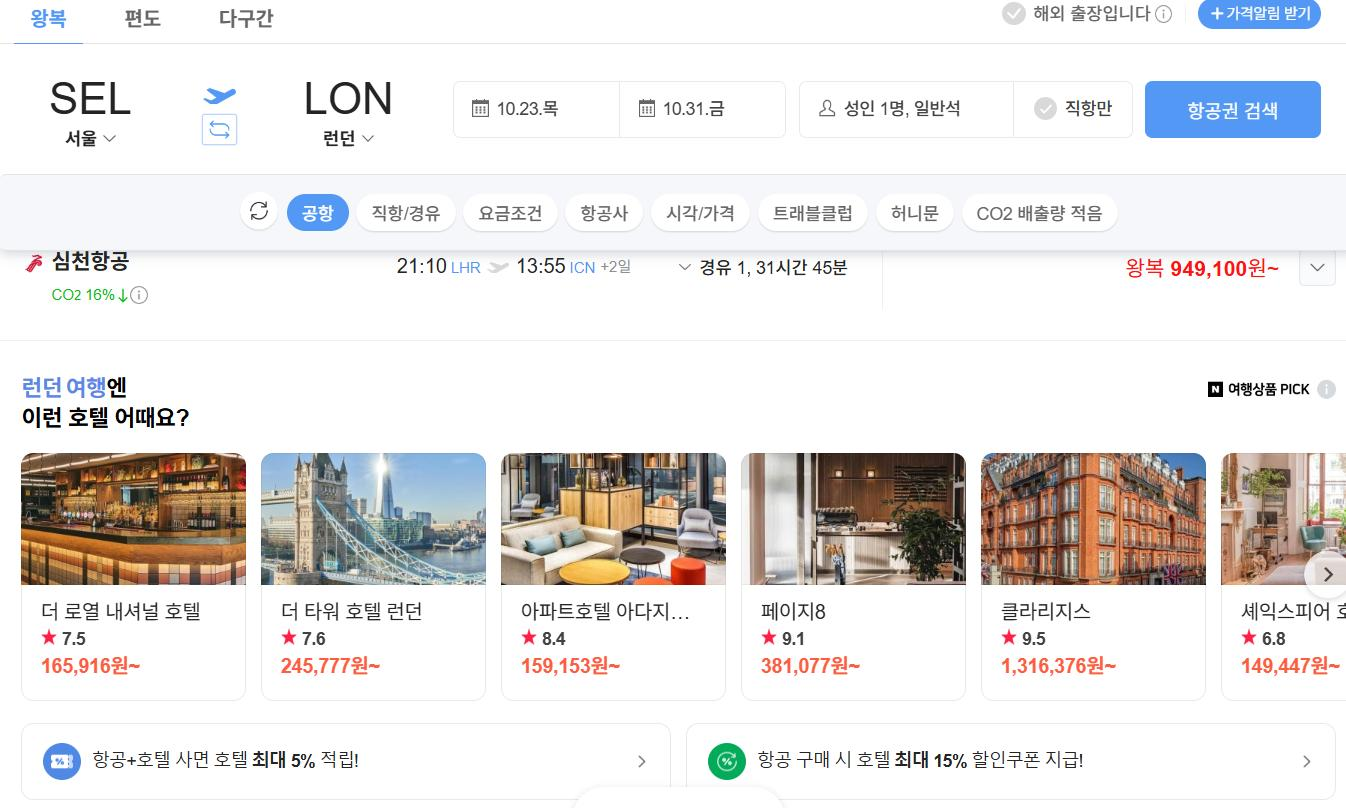button: (1145, 81, 1323, 136), (807, 88, 986, 133), (961, 192, 1119, 231), (758, 190, 869, 233), (353, 190, 454, 232), (627, 91, 748, 125), (648, 194, 752, 233), (461, 191, 559, 231), (21, 0, 106, 43), (208, 0, 296, 36), (565, 190, 638, 230), (875, 194, 956, 230), (115, 2, 196, 37), (1304, 541, 1345, 602), (285, 194, 348, 232), (241, 194, 278, 231), (202, 110, 237, 147), (1300, 249, 1335, 284), (671, 253, 701, 278), (1295, 750, 1319, 777), (631, 750, 654, 774)
checkbox: (1002, 2, 1180, 34), (459, 89, 575, 129), (1025, 89, 1123, 126), (314, 123, 381, 157), (60, 127, 123, 153)
